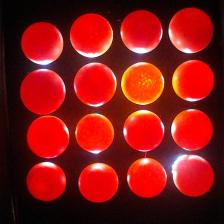infertile: (19, 68, 66, 115), (168, 8, 214, 54), (73, 61, 117, 108), (69, 13, 114, 58), (119, 9, 163, 54), (26, 115, 70, 159), (21, 21, 64, 66), (120, 62, 164, 105), (171, 59, 215, 102), (170, 109, 214, 152), (123, 109, 165, 152), (173, 154, 214, 198), (25, 161, 67, 202), (78, 162, 119, 204), (75, 112, 115, 154), (127, 157, 167, 199)
